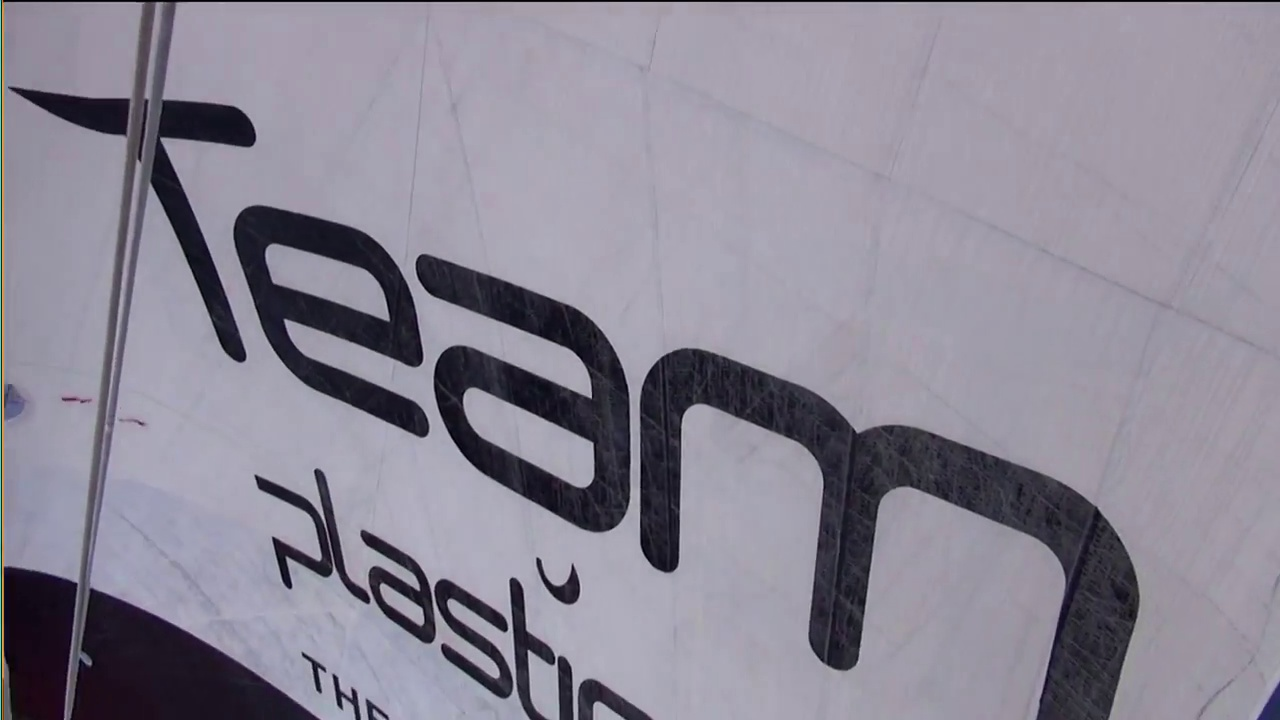pennon_attached: (113, 403, 152, 437), (58, 386, 99, 412)
